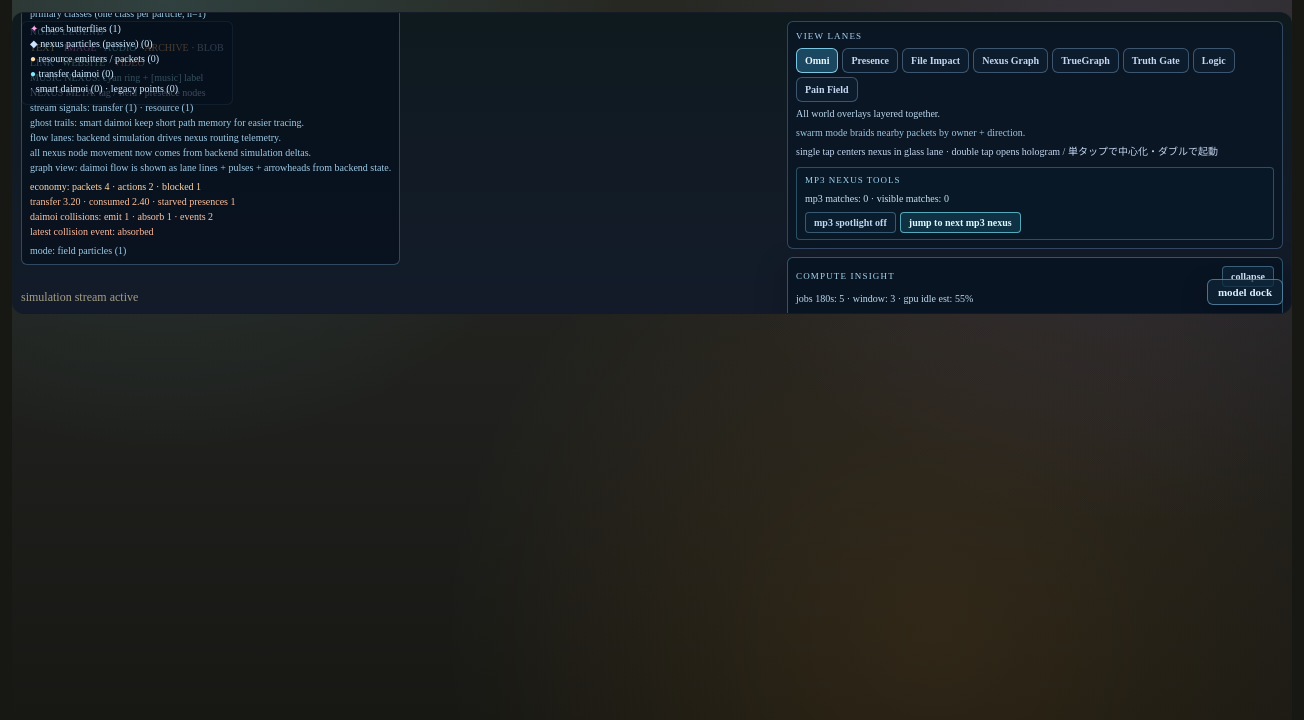
Test: SimulationCanvas › switches overlay lanes and toggles mp3 tools
Check: the text "view lanes" is shown, box [796, 31, 862, 41]
Check: the text "All world overlays layered together." is shown, box [796, 108, 940, 118]
Click the button "Presence": (870, 60) [842, 48, 898, 72]
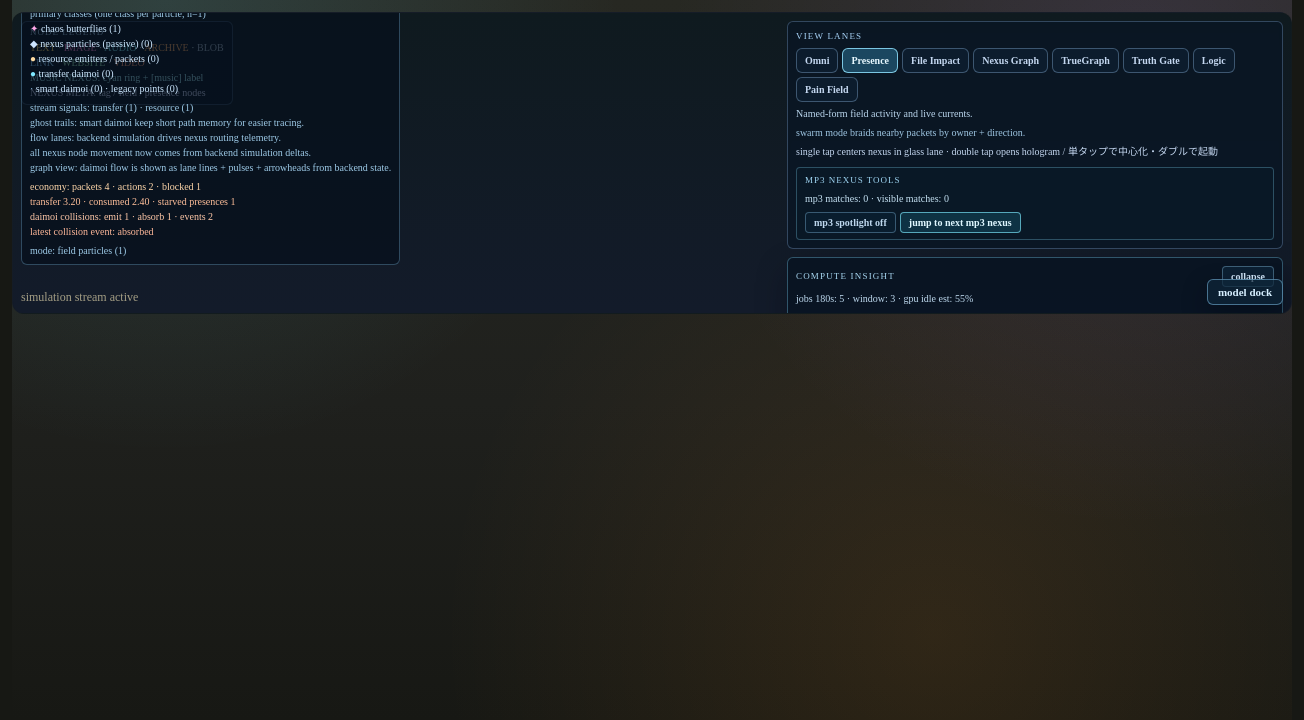
Check: the text "Named-form field activity and live currents." is shown, box [796, 108, 973, 118]
Click the button "mp3 spotlight off": (850, 222) [805, 212, 896, 233]
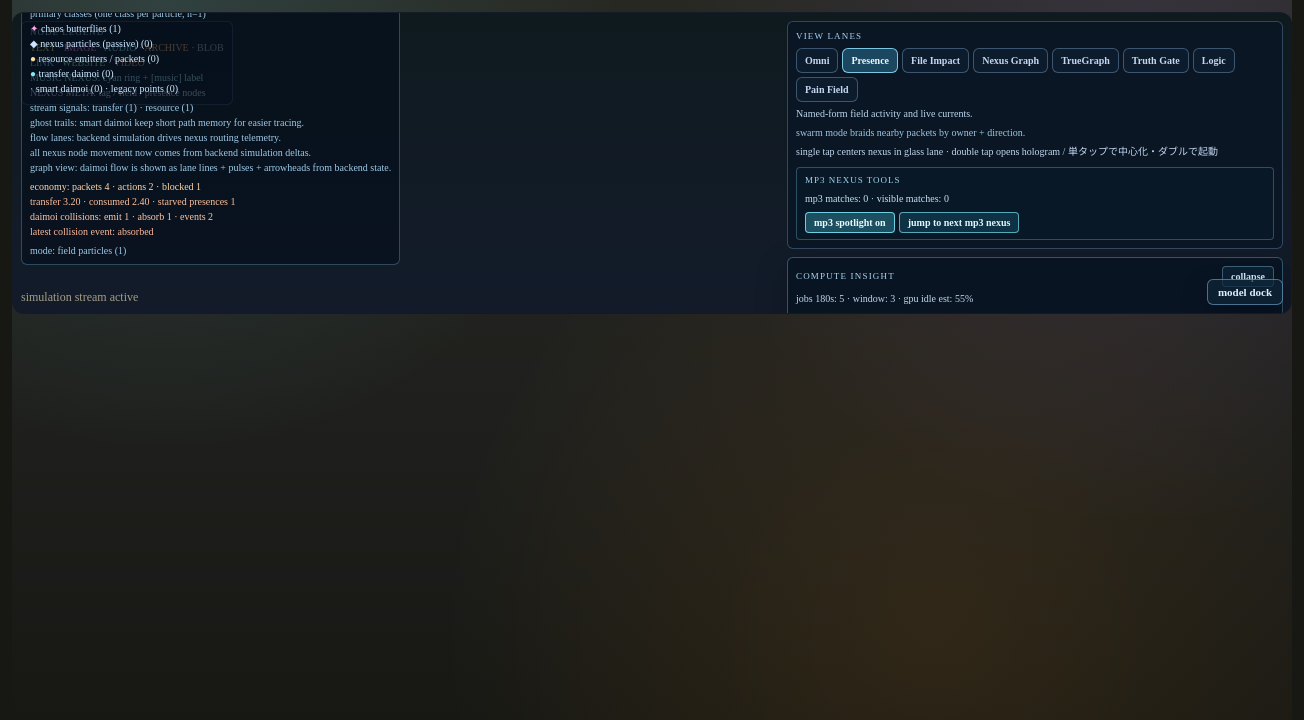
Check: the button "mp3 spotlight on" is shown, box [805, 212, 895, 233]
Click the button "jump to next mp3 nexus": (959, 222) [899, 212, 1020, 233]
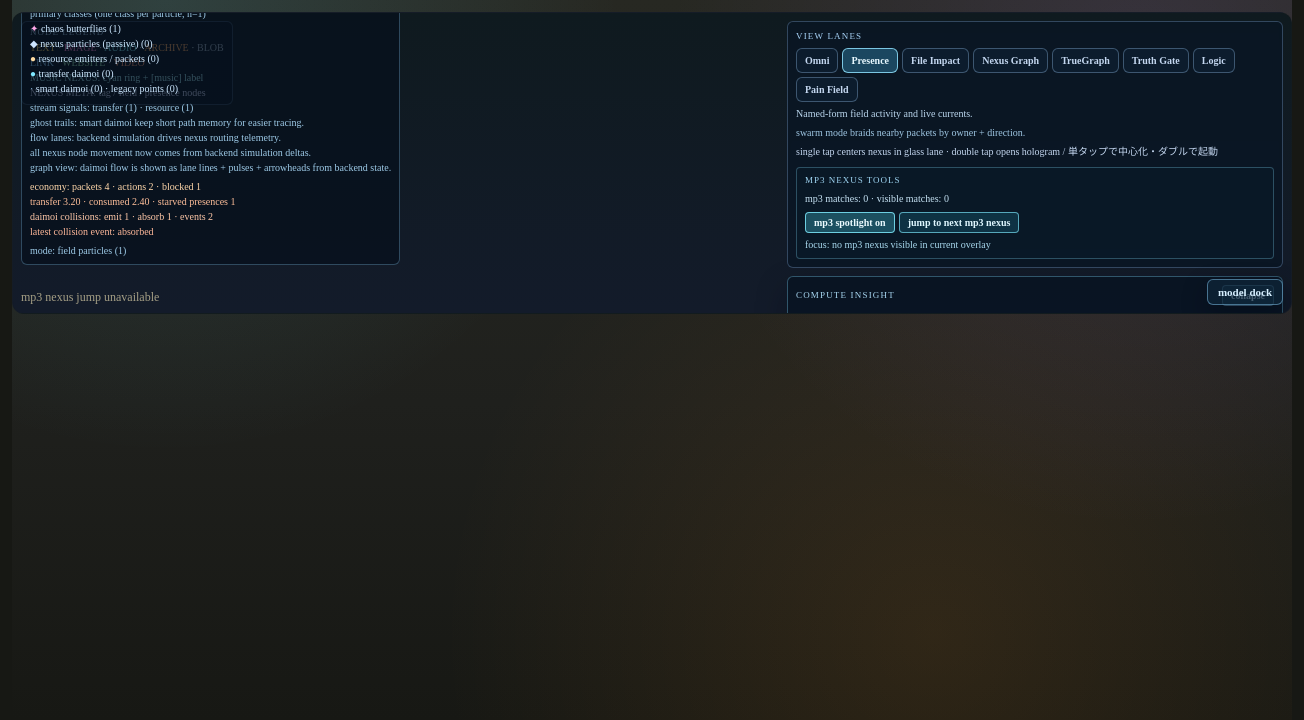
Check: the text "focus: no mp3 nexus visible in current overlay" is shown, box [805, 239, 991, 250]
Check: the text "mp3 nexus jump unavailable" is shown, box [21, 289, 159, 305]
